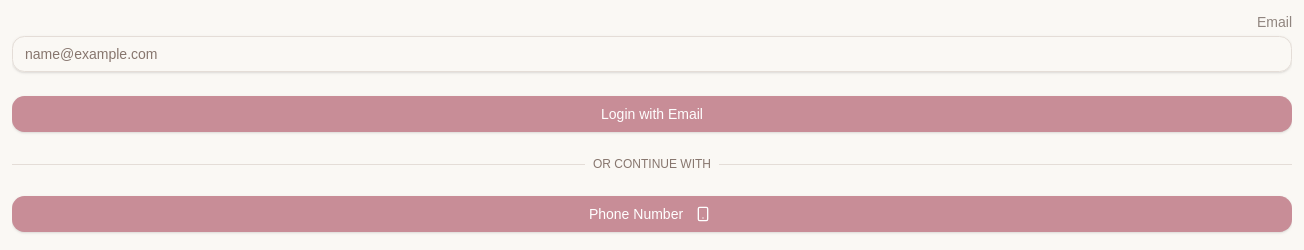
Test: storefront login form: verification › keeps Submit disabled until six digits are entered
The image size is (1304, 250).
Type "buyer@example.com" into the field with placeholder "name@example.com" at (652, 54), box [12,36,1292,72]
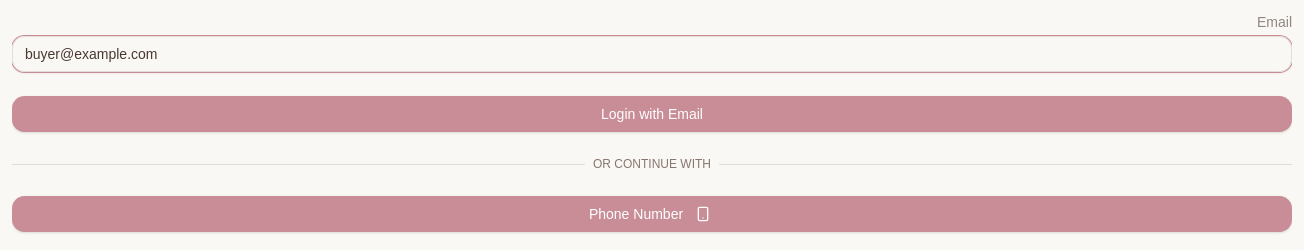
Click the button "Login with Email" at (652, 114), box [12,96,1292,132]
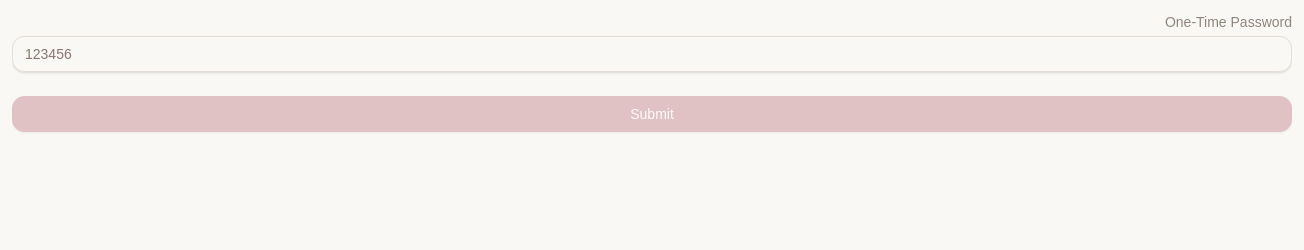
expect the text "One-Time Password" is shown: met, box [1165,14,1292,30]
expect the button "Submit" is disabled: met, box [12,96,1292,132]
Type "12345" into the field with placeholder "123456" at (652, 54), box [12,36,1292,72]
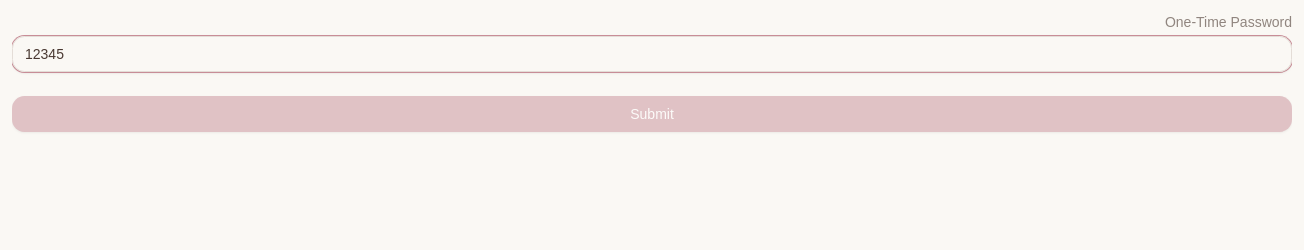
expect the button "Submit" is disabled: met, box [12,96,1292,132]
Type "6" into the field with placeholder "123456" at (652, 54), box [12,36,1292,72]
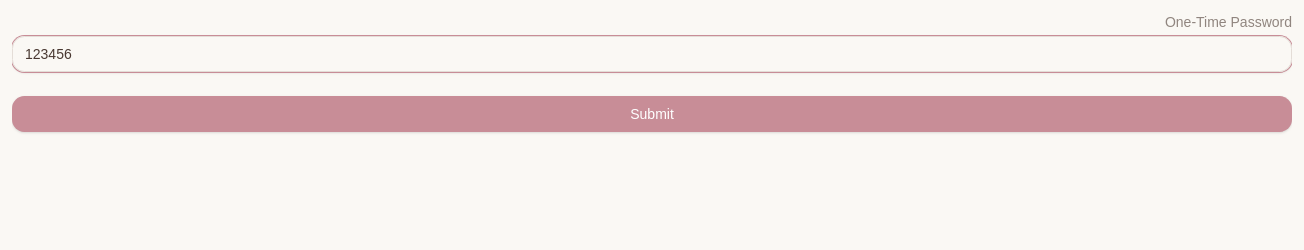
expect the button "Submit" is enabled: met, box [12,96,1292,132]
